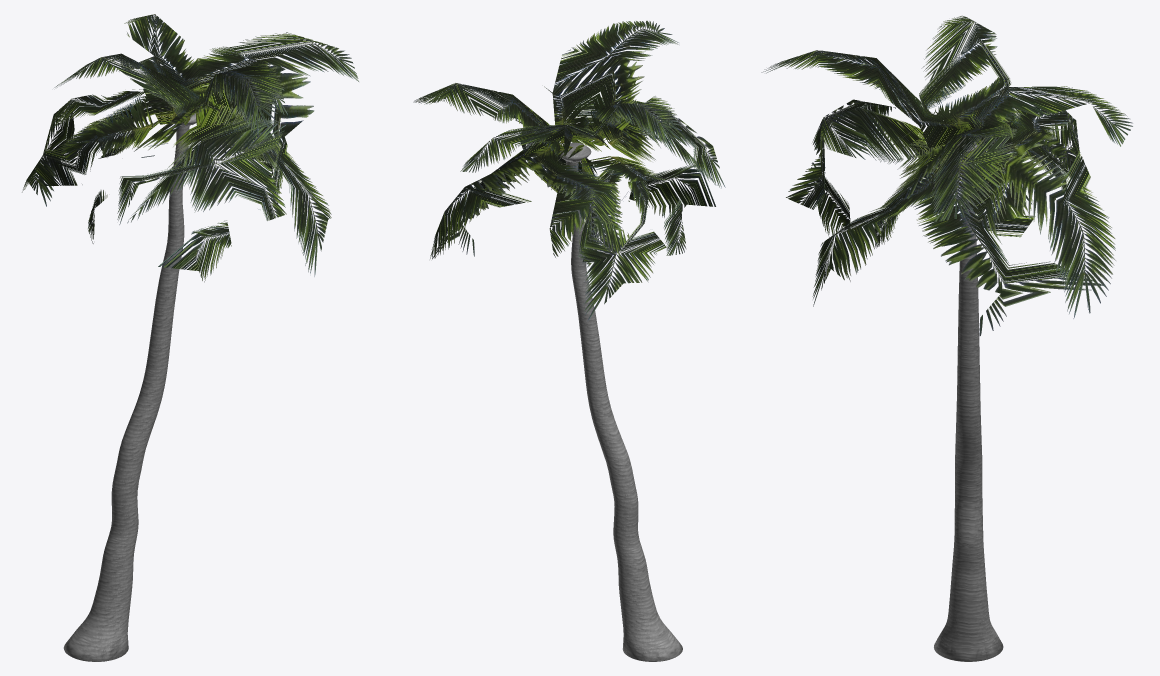
File: royal-palm.glb
3 views of the same model, side by side, from view 1: azimuth 30°, elevation 25°; view 2: azimuth 150°, elevation 25°; view 3: azimuth 270°, elevation 25° (orthographic). The views are drawn at different scales.
Parts seen in each view (by area): view 1: fronds, trunk; view 2: fronds, trunk; view 3: fronds, trunk.
Boxes of the visible parts, <box> form: fronds: <box>22,14,358,282</box>; trunk: <box>63,113,196,661</box>; fronds: <box>413,20,725,321</box>; trunk: <box>559,142,682,661</box>; fronds: <box>761,15,1132,335</box>; trunk: <box>934,135,1003,661</box>.
Size of the model in its own units: 2.45 by 4.48 by 2.46.
Materials: 2 (2 with a texture image).
